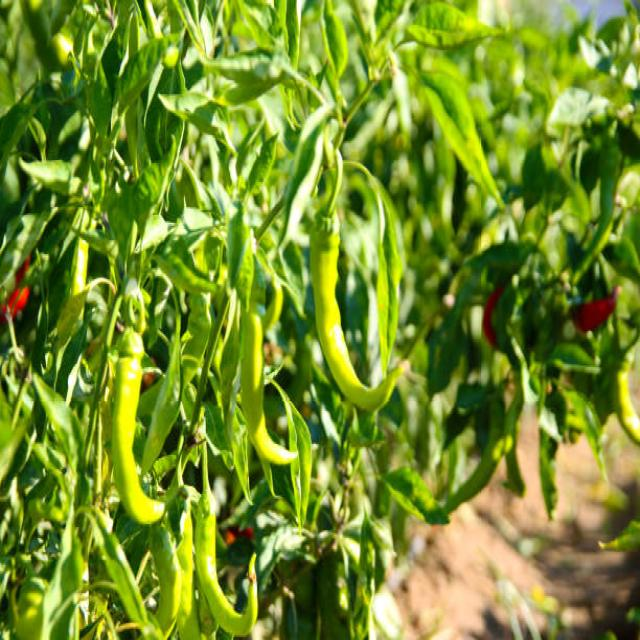Unripe: (311, 215, 404, 411), (195, 491, 256, 634), (109, 355, 160, 522), (241, 312, 296, 463), (150, 524, 179, 631), (176, 510, 199, 638)
